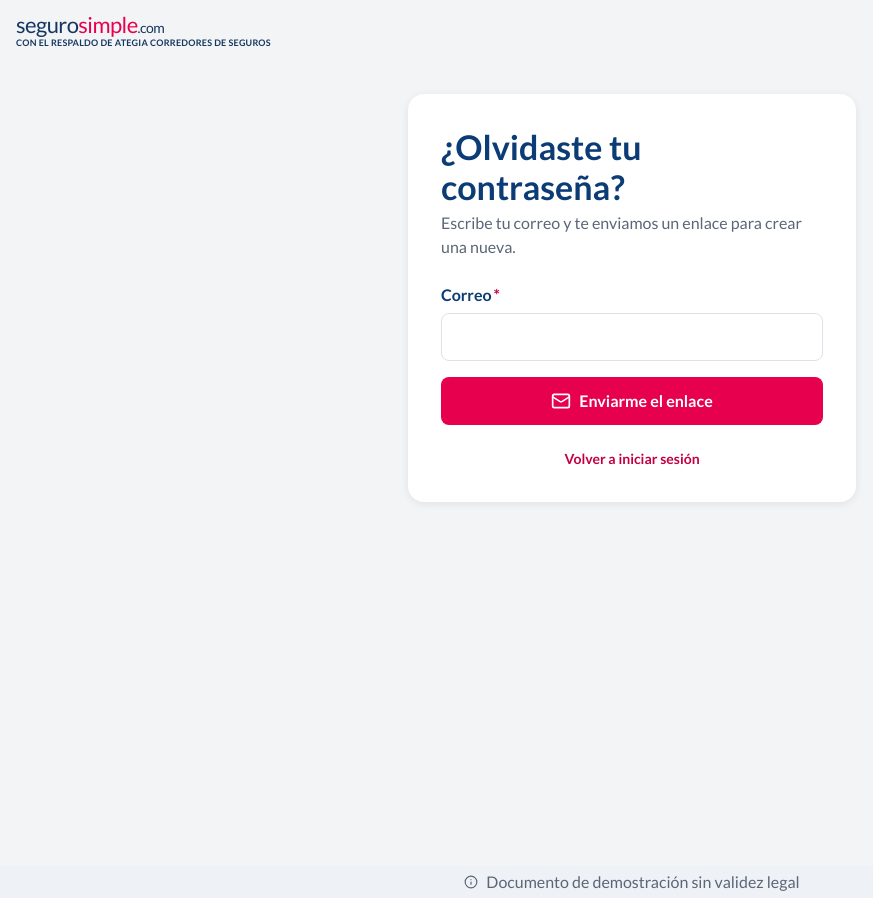
Test: RecuperarPasswordPage › manda el enlace y responde lo mismo exista o no la cuenta
This screenshot has width=873, height=898.
Type "  ana@correo.com " into the field labelled "Correo*" at (632, 337), box [441,313,823,361]
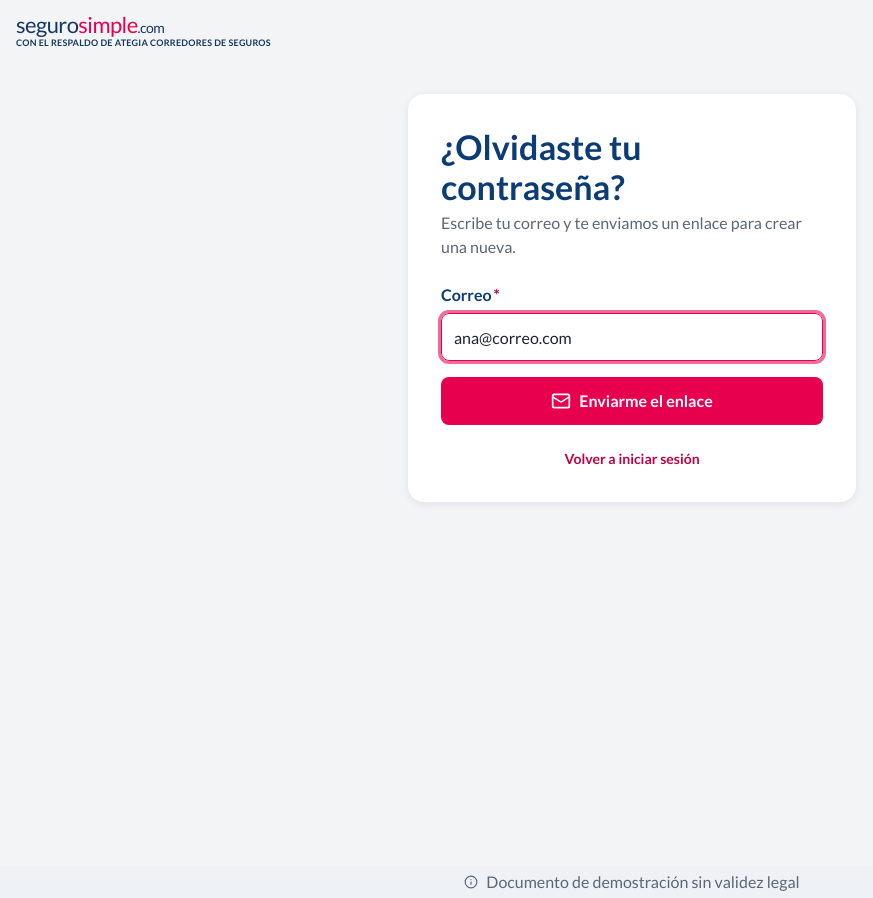
Click the button "Enviarme el enlace" at (632, 401), box [441,377,823,425]
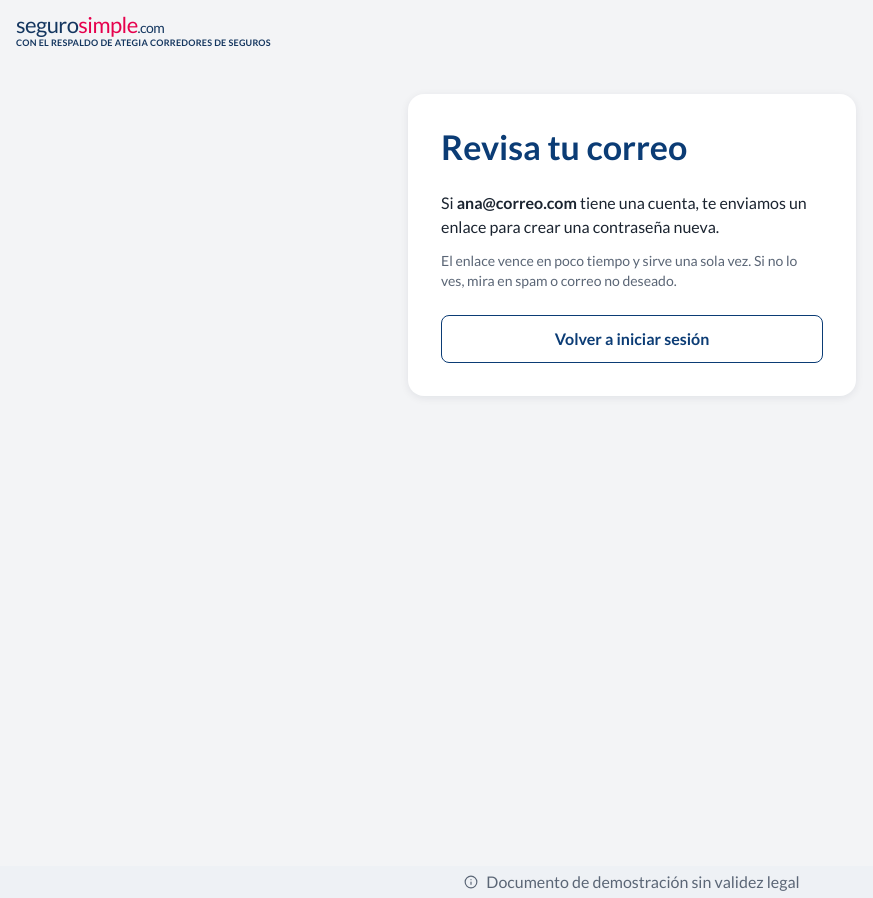
Expected: the heading "Revisa tu correo" is shown, [441,126,687,167]
Expected: the message shows "Si ana@correo.com tiene una cuenta", [441,191,823,239]
